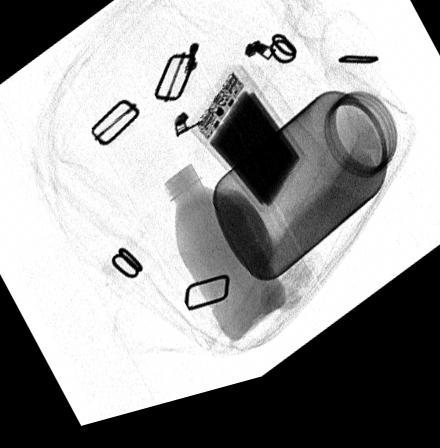Powerbank: (187, 78, 305, 227)
